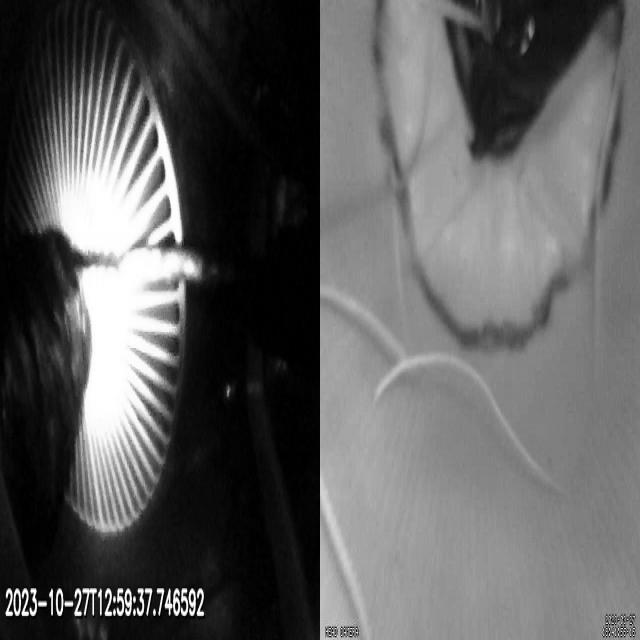red-circle: (369, 4, 626, 352)
